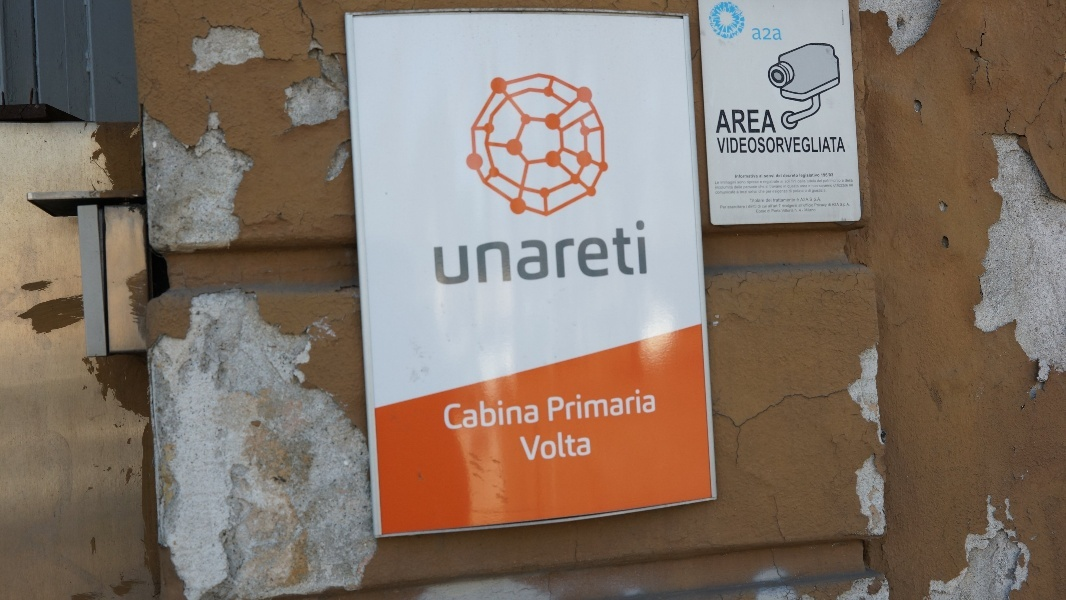text: (433, 220, 448, 286), (449, 220, 464, 286), (465, 220, 480, 286), (481, 220, 496, 286), (497, 220, 512, 286), (513, 220, 528, 286), (529, 220, 544, 286), (545, 220, 560, 286), (561, 220, 576, 286), (577, 220, 592, 286), (593, 220, 608, 286), (609, 220, 624, 286), (625, 220, 640, 286), (641, 388, 657, 423), (529, 427, 544, 463), (545, 427, 560, 463), (561, 427, 576, 463), (577, 427, 592, 463), (641, 220, 649, 286), (561, 388, 576, 423), (577, 388, 592, 423), (593, 388, 608, 423), (609, 388, 624, 423), (625, 388, 640, 423), (514, 427, 528, 463), (449, 400, 464, 432), (465, 400, 480, 432), (481, 400, 496, 432), (497, 400, 512, 432), (513, 400, 528, 432), (547, 388, 560, 423), (529, 400, 541, 432), (721, 110, 736, 133), (737, 110, 752, 133), (753, 110, 768, 133), (721, 137, 736, 154), (737, 137, 752, 154), (753, 137, 768, 154), (769, 137, 784, 154), (785, 137, 800, 154), (801, 137, 816, 154), (817, 137, 832, 154), (833, 137, 846, 154), (753, 28, 768, 41), (769, 28, 782, 41), (769, 110, 776, 133), (444, 400, 448, 432), (801, 174, 816, 179), (721, 181, 736, 186), (833, 203, 848, 207), (769, 204, 784, 208), (817, 179, 832, 183), (737, 175, 752, 179), (802, 198, 816, 202), (785, 174, 799, 178), (770, 185, 784, 189), (817, 189, 828, 194), (773, 190, 784, 195), (785, 205, 798, 209), (717, 137, 720, 154), (753, 199, 765, 203), (788, 185, 800, 189), (721, 185, 733, 189), (721, 206, 736, 209), (737, 191, 752, 194), (721, 191, 736, 194), (849, 184, 864, 187), (773, 199, 784, 203), (785, 199, 796, 203), (789, 190, 800, 194), (769, 181, 780, 185), (834, 184, 848, 187), (817, 204, 827, 208), (824, 179, 832, 184), (833, 179, 841, 184), (819, 185, 832, 188), (785, 209, 794, 213), (772, 210, 784, 213), (756, 210, 768, 213), (804, 204, 816, 207), (740, 191, 752, 194), (759, 185, 768, 189), (805, 209, 816, 212), (821, 174, 832, 177), (840, 203, 848, 207), (760, 190, 768, 194), (744, 186, 752, 190), (760, 175, 768, 179), (758, 205, 768, 208), (737, 182, 752, 184), (777, 174, 784, 178), (737, 206, 746, 209), (807, 180, 816, 183), (811, 198, 816, 203), (817, 198, 822, 203), (728, 206, 736, 209), (794, 190, 800, 194), (792, 180, 800, 183), (785, 179, 791, 183), (737, 185, 743, 189), (753, 181, 759, 185), (769, 174, 775, 178), (805, 190, 816, 192), (809, 190, 816, 193), (809, 185, 816, 188), (801, 185, 808, 188), (779, 204, 784, 208), (747, 205, 752, 209), (812, 189, 816, 194), (753, 190, 758, 194), (801, 179, 806, 183), (753, 186, 758, 190), (715, 185, 720, 189), (747, 181, 752, 185), (715, 181, 720, 185), (753, 175, 758, 179), (842, 179, 848, 182), (748, 205, 752, 209), (753, 205, 757, 209), (849, 179, 853, 183), (764, 181, 768, 185), (760, 182, 768, 184), (764, 174, 768, 178), (763, 205, 768, 208), (785, 190, 788, 195), (817, 174, 820, 179), (801, 209, 805, 212), (828, 204, 832, 207), (797, 198, 800, 202), (801, 190, 804, 194), (749, 190, 752, 194), (716, 191, 720, 194), (812, 185, 816, 188), (845, 179, 848, 183), (781, 180, 784, 184), (795, 210, 800, 212), (769, 199, 772, 202), (769, 191, 772, 194), (782, 209, 784, 213), (849, 203, 851, 207), (782, 205, 784, 209), (750, 199, 752, 203), (798, 179, 800, 183), (734, 185, 736, 189), (769, 210, 771, 213), (801, 204, 803, 207), (766, 199, 768, 202), (766, 191, 768, 194), (785, 185, 787, 188), (766, 185, 768, 188), (799, 174, 800, 179), (815, 204, 816, 208), (783, 174, 784, 178), (735, 175, 736, 179), (799, 204, 800, 207), (817, 185, 818, 188), (783, 185, 784, 188), (833, 174, 834, 177)
